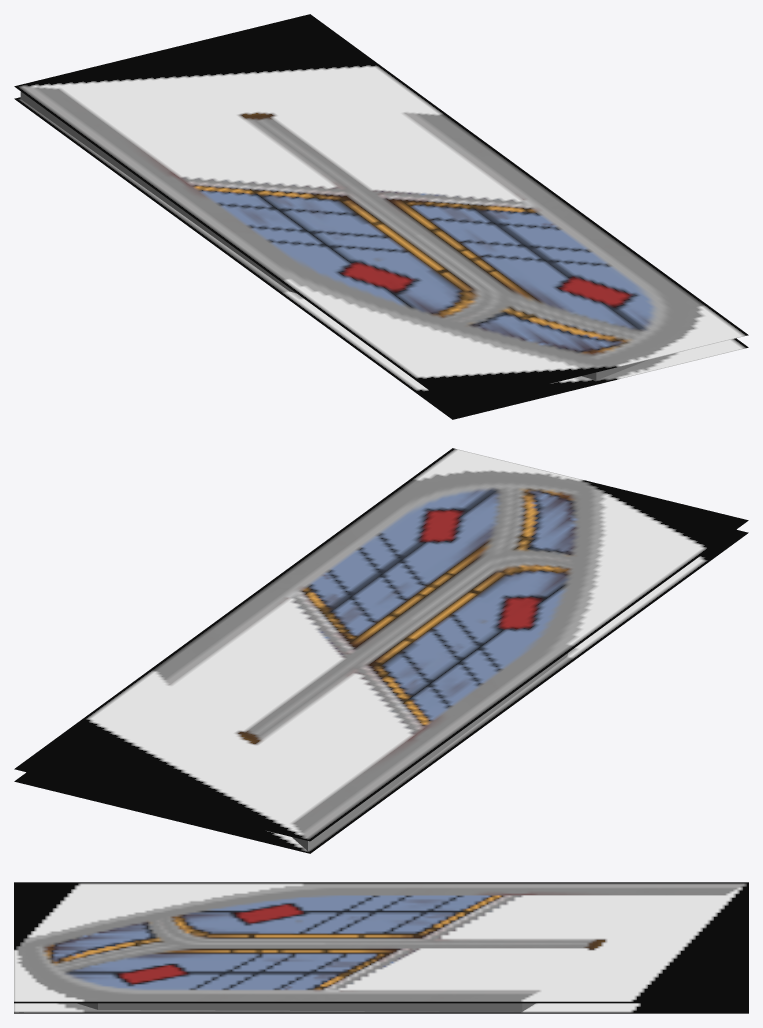
Rendered from pz_native_location_community_church_small_01_262_frame.obj.
The picture shows the model from 3 angles, top to bottom: view 1: azimuth 30°, elevation 25°; view 2: azimuth 150°, elevation 25°; view 3: azimuth 270°, elevation 25°; orthographic projection. The views are drawn at different scales.
Visible parts, largest first — view 1: pz_native_location_community_church_small_01_262_frame; view 2: pz_native_location_community_church_small_01_262_frame; view 3: pz_native_location_community_church_small_01_262_frame.
Part boxes in pixels (left/top/right/bottom): pz_native_location_community_church_small_01_262_frame: left=14, top=14, right=748, bottom=419; pz_native_location_community_church_small_01_262_frame: left=14, top=448, right=748, bottom=853; pz_native_location_community_church_small_01_262_frame: left=14, top=882, right=748, bottom=1013.
Size of the model in its own units: 1 by 0.04 by 2.56.
Materials: 1 (1 with a texture image).
